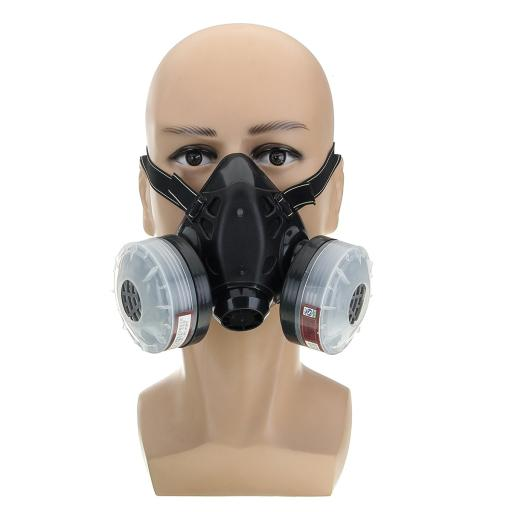mask: (102, 154, 400, 356)
